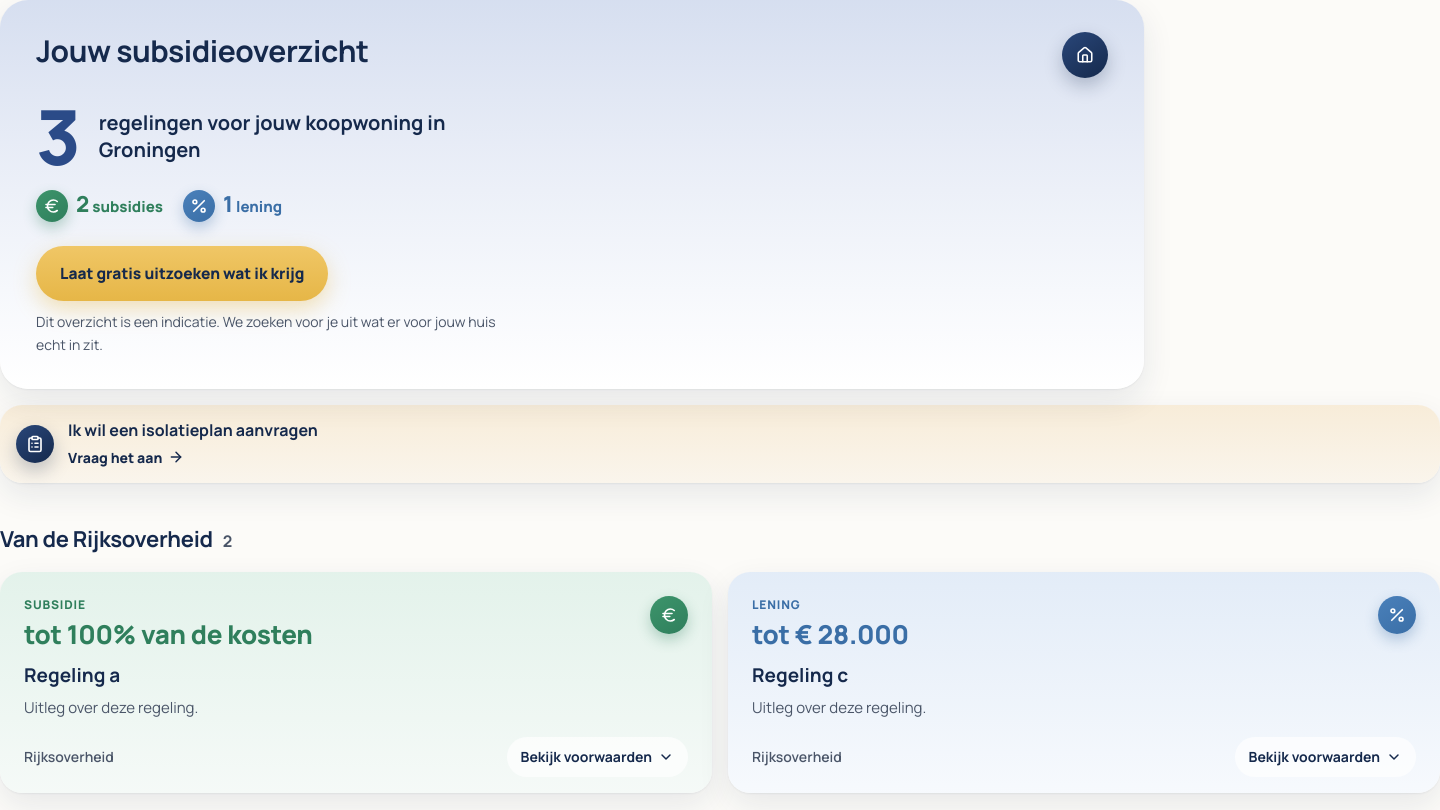
Test: resultaatscherm in de huisstijl › één klik dient het verzoek in en toont dat het binnen is, met de vraag waar de bewoner wil beginnen
Click the button "Laat gratis uitzoeken wat ik krijg" at [182, 274], box [36,246,328,301]
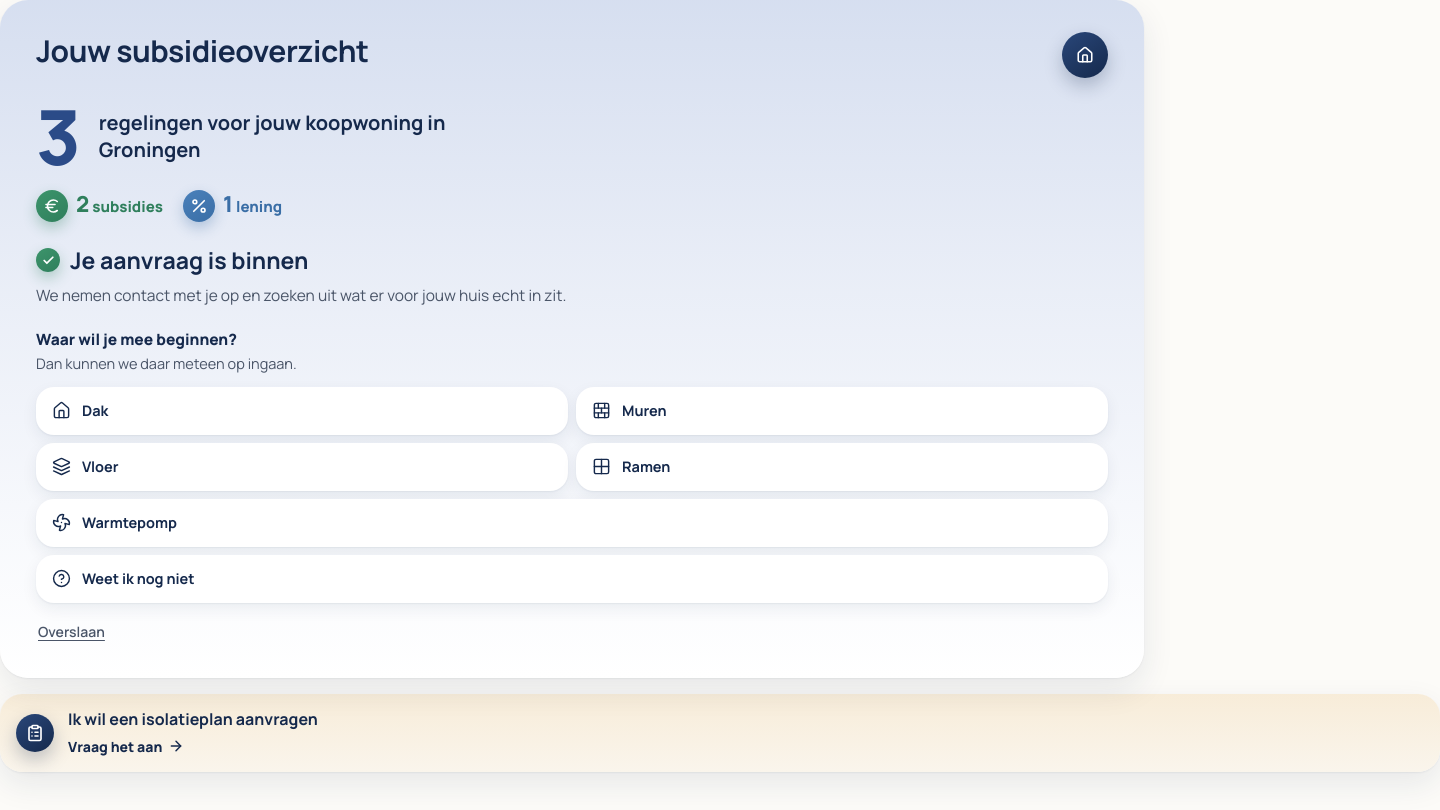
Expected: the text "Je aanvraag is binnen" is shown, [36,244,308,276]
Expected: the text "We nemen contact met je op en zoeken uit wat er voor jouw huis echt in zit." is shown, [36,284,566,306]
Expected: the text "Waar wil je mee beginnen?" is shown, [36,328,237,350]
